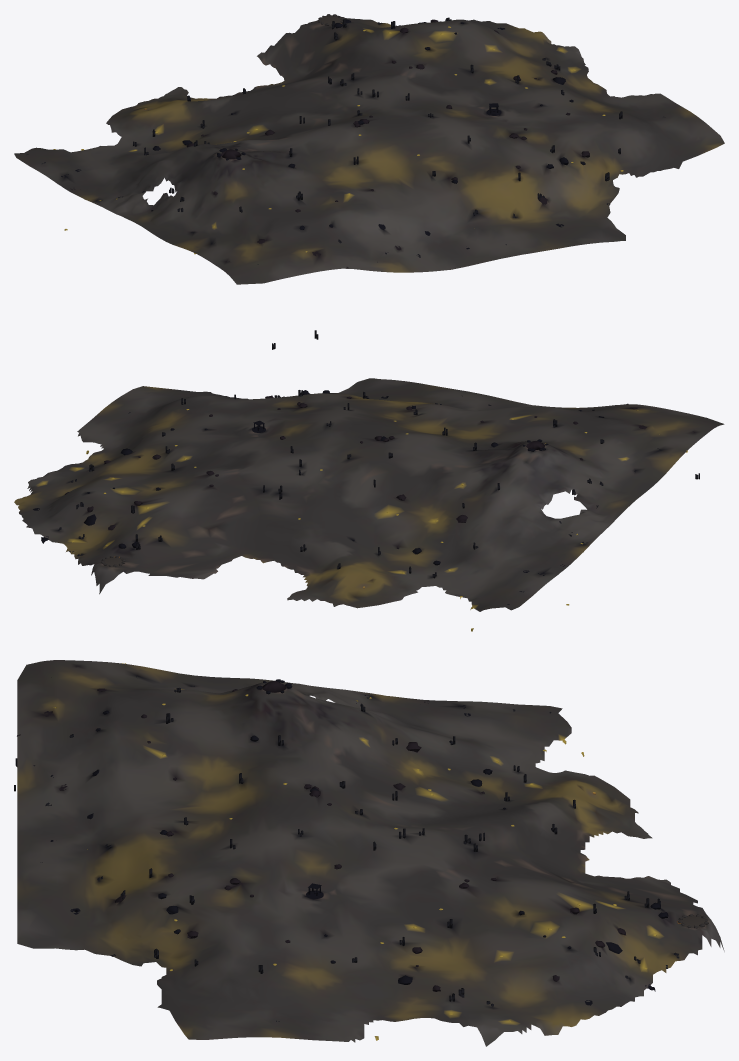
File: ash_isl_vent_lod1.glb
3 renders of one model, top to bottom at view 1: azimuth 30°, elevation 25°; view 2: azimuth 150°, elevation 25°; view 3: azimuth 270°, elevation 25°, orthographic. The views are drawn at different scales.
Visible parts, largest first — view 1: ash_isl_vent_lod1; view 2: ash_isl_vent_lod1; view 3: ash_isl_vent_lod1.
Part boxes in pixels (bbox=[...]): ash_isl_vent_lod1: bbox=[14, 14, 724, 349]; ash_isl_vent_lod1: bbox=[14, 378, 724, 631]; ash_isl_vent_lod1: bbox=[14, 660, 724, 1046].
Size of the model in its own units: 341 by 59.42 by 316.
